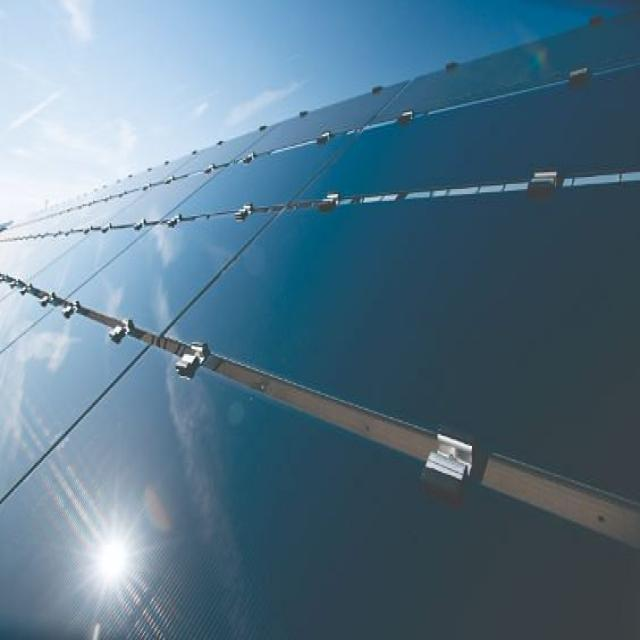clean-solar-panel: (1, 8, 640, 638)
